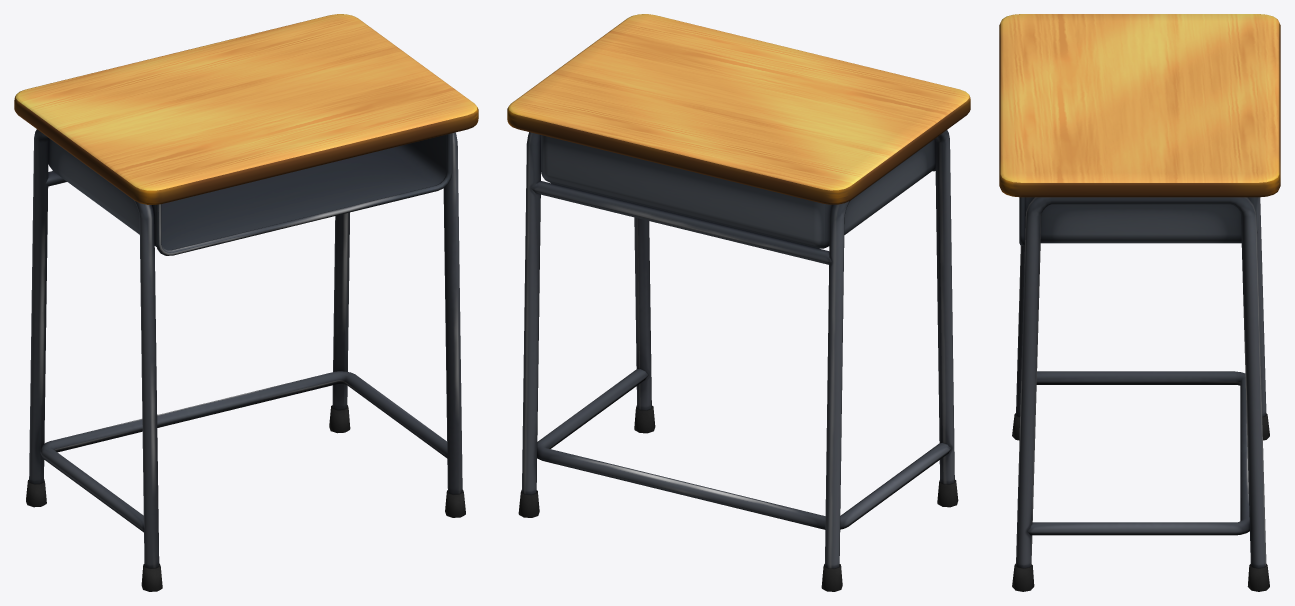
The model's file is japanese-school-desk.glb.
3 views of the same model, side by side, from view 1: azimuth 30°, elevation 25°; view 2: azimuth 150°, elevation 25°; view 3: azimuth 270°, elevation 25° (orthographic).
Visible parts, largest first — view 1: japanschooldesk_m_japanschooldesk_0; view 2: japanschooldesk_m_japanschooldesk_0; view 3: japanschooldesk_m_japanschooldesk_0.
Boxes of the visible parts, left/top/right/bottom form: japanschooldesk_m_japanschooldesk_0: left=14, top=14, right=478, bottom=591; japanschooldesk_m_japanschooldesk_0: left=507, top=14, right=970, bottom=591; japanschooldesk_m_japanschooldesk_0: left=999, top=14, right=1280, bottom=591.
Bounding box in the file's own units: 0.9953 × 1.13 × 0.6965.
1 material, 1 textured.
